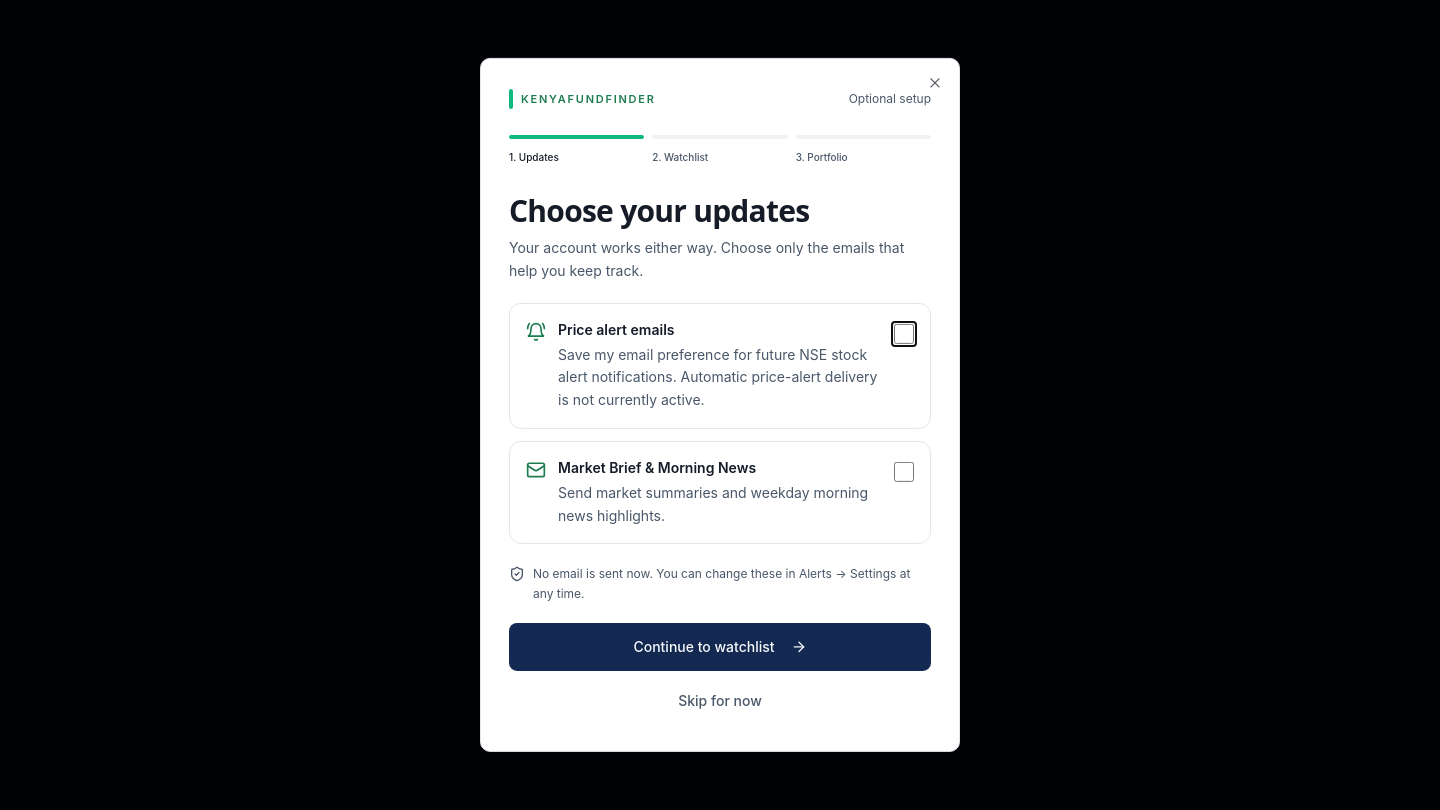
Test: welcome signup integration › saves choices only after the optional watchlist and portfolio steps
The width and height of the screenshot is (1440, 810).
Click the button "Continue to watchlist" at (720, 647), box 509,623 -> 931,671
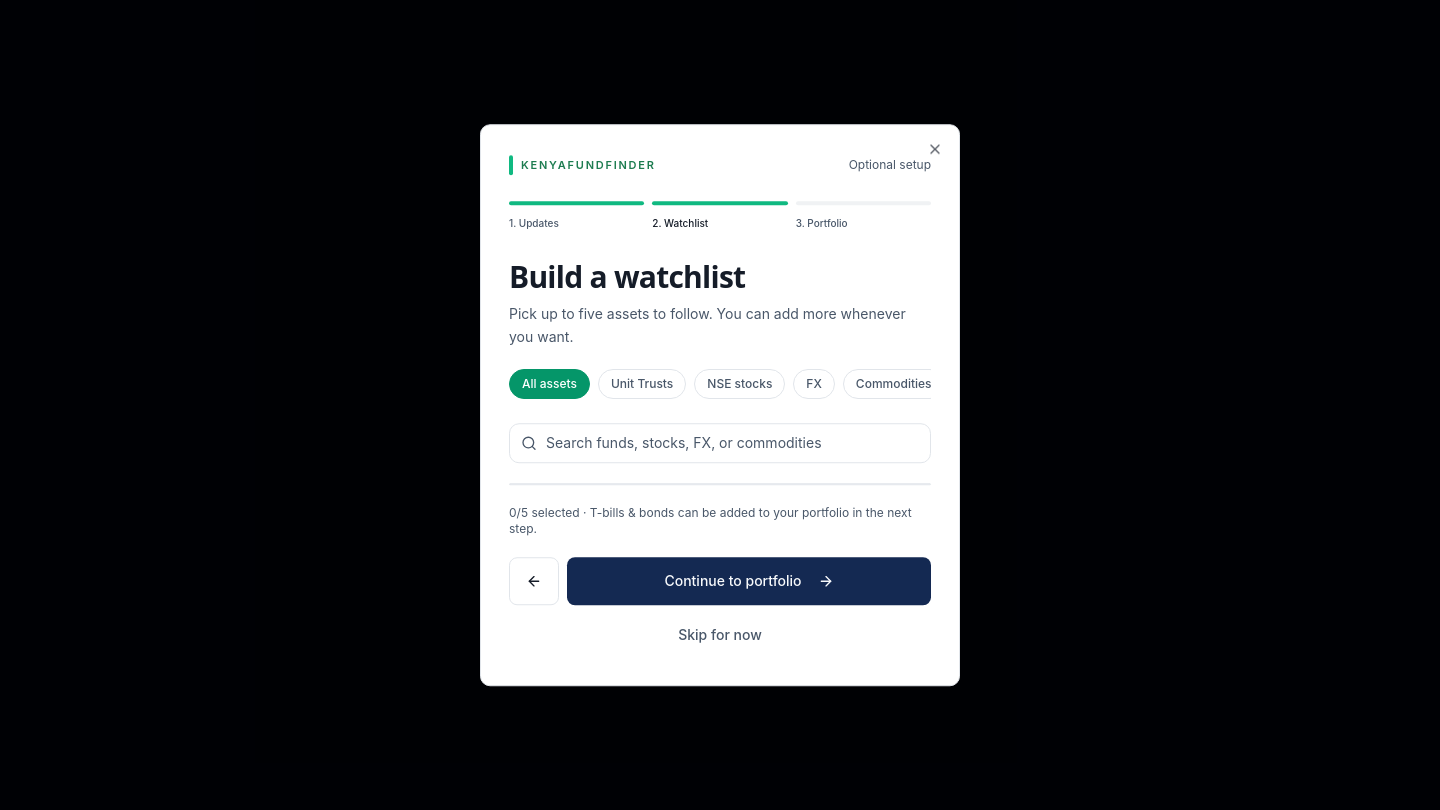
Click the button "Continue to portfolio" at (749, 581), box 567,557 -> 931,605
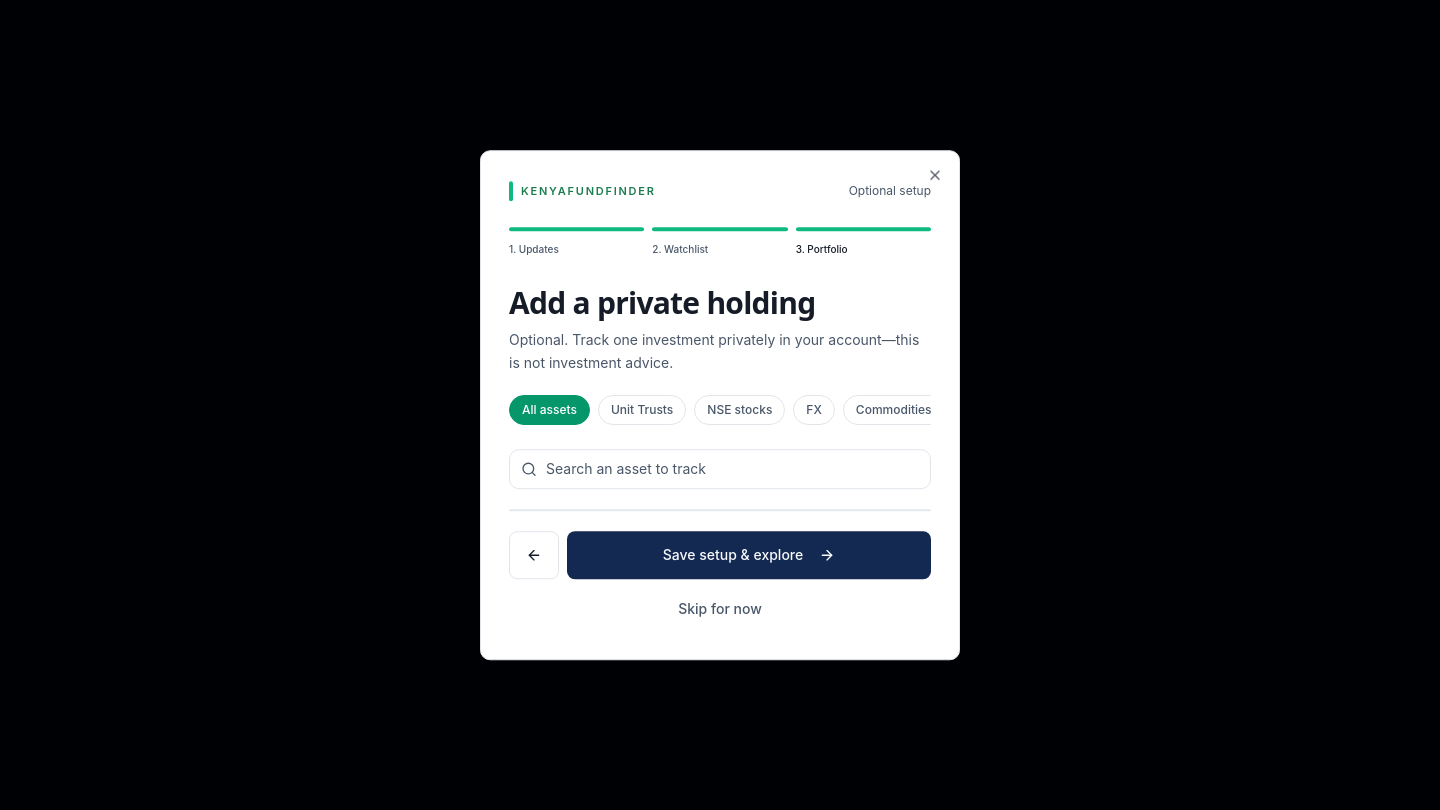
Click the button "Skip for now" at (720, 609), box 509,587 -> 931,631
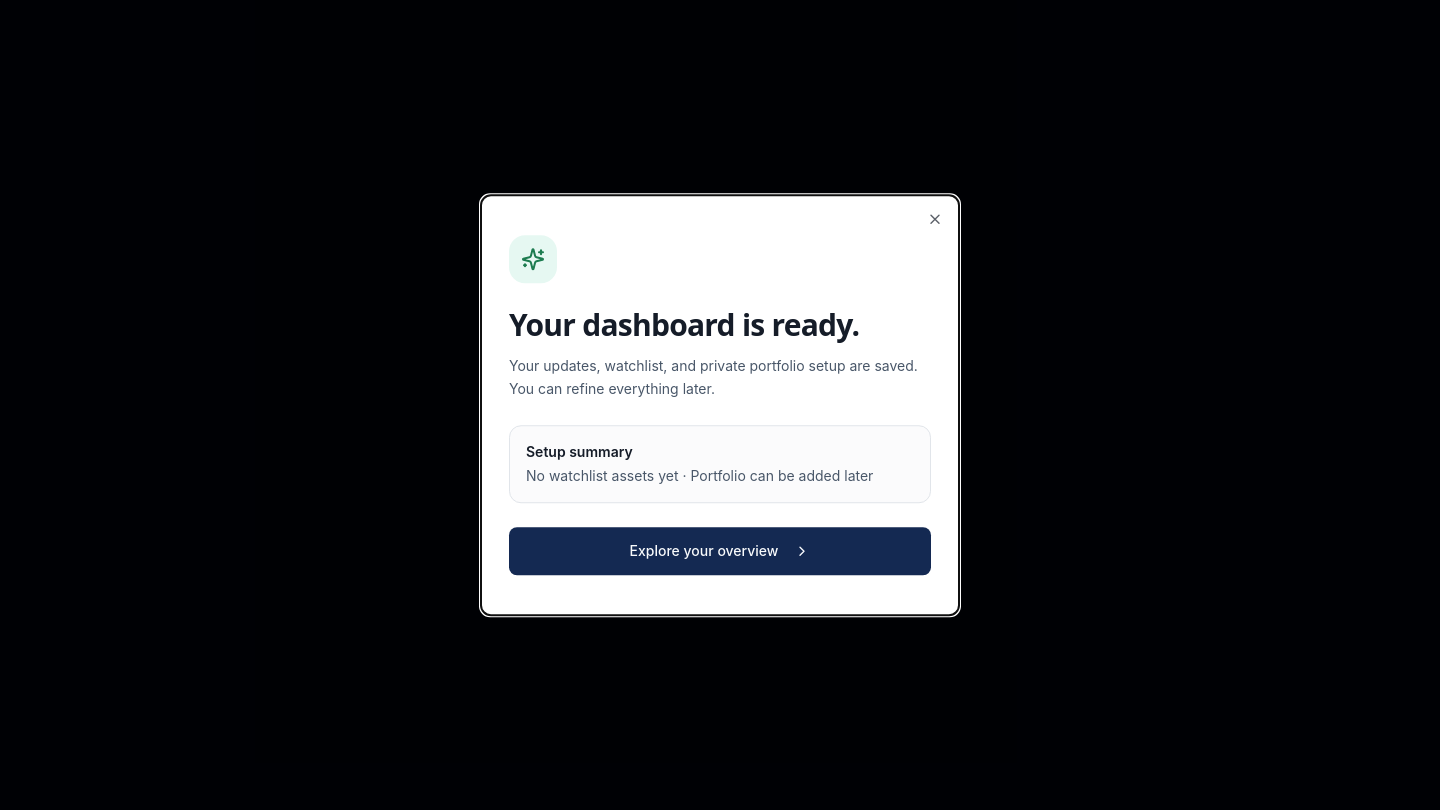
Expected: the heading "Your dashboard is ready." is shown, 509,304 -> 859,345
